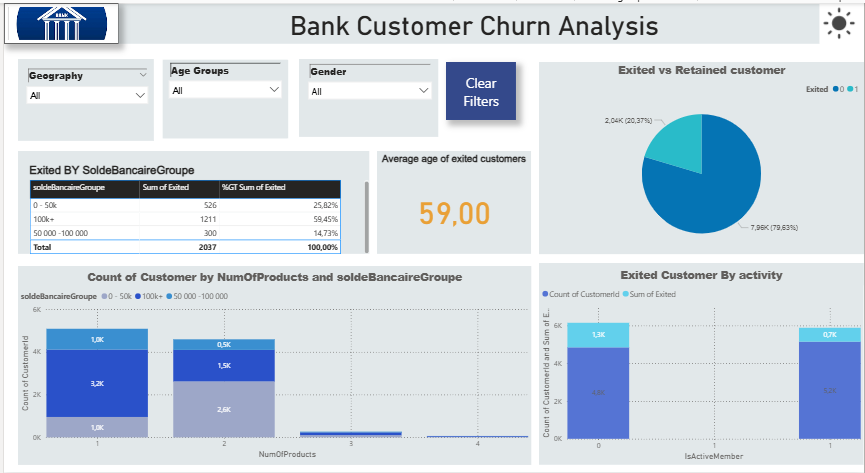

The page's visual inventory and layout, read from the dashboard file:
{"tool":"powerbi","page":{"name":"Page 1","canvas":[1513,825],"ordinal":0},"visuals":[{"type":"slicer","fields":{"Values":["Gender.Gender"]},"box":[519,98.5,244.5,137.2],"z":0},{"type":"slicer","fields":{"Values":["Geography.Geography"]},"box":[24.6,98.5,239.3,144.3],"z":1000},{"type":"slicer","fields":{"Values":["Dim_Age.TrancheAge"]},"box":[278,98.5,223.4,140.7],"z":2000},{"type":"pieChart","title":"Exited vs Retained customer","fields":{"Category":["Client.Exited"],"Y":["CountNonNull(Client.CustomerId)"]},"box":[941.2,103.8,571.8,337.8],"z":3000},{"type":"columnChart","title":"Exited Customer By activity","fields":{"Category":["Client.IsActiveMember"],"Y":["CountNonNull(Client.CustomerId)","Sum(Client.Exited)"]},"box":[942,457.2,571,354.7],"z":4000},{"type":"tableEx","title":"Exited BY SoldeBancaireGroupe","fields":{"Values":["Fait_Client.soldeBancaireGroupe","Sum(Fait_Client.Exited)","Divide(Sum(Fait_Client.Exited), ScopedEval(Sum(Fait_Client.Exited), []))"]},"box":[24.6,260.4,617.5,181.2],"z":5000},{"type":"columnChart","title":"Count of Customer by NumOfProducts and soldeBancaireGroupe","fields":{"Category":["Client.NumOfProducts"],"Y":["CountNonNull(Client.CustomerId)"],"Series":["Client.soldeBancaireGroupe"]},"box":[24.4,462,902.9,349.8],"z":6000},{"type":"textbox","title":"Bank Customer Churn Analysis","box":[199.8,1.6,1234.3,69.8],"z":7000},{"type":"image","box":[0,0,200.6,72.1],"z":8000},{"type":"card","title":"Average age of exited customers","fields":{"Values":["Fait_Client.MoyenneAgeExited"]},"box":[656.2,260.4,270.9,181.2],"z":10000},{"type":"actionButton","box":[777.6,103.8,123.2,102],"z":11000},{"type":"actionButton","title":"Light mode","box":[1434,0,79.6,71.5],"z":12000}]}

Visuals, with their boxes in screenshot pixels (x1, y1, x2, y2), scaled from the page's 1513x825 canvas onto the 865x473 screenshot:
slicer - Gender.Gender: BBox(297, 56, 437, 135)
slicer - Geography.Geography: BBox(14, 56, 151, 139)
slicer - Dim_Age.TrancheAge: BBox(159, 56, 287, 137)
"Exited vs Retained customer" pieChart: BBox(538, 60, 864, 253)
"Exited Customer By activity" columnChart: BBox(539, 262, 864, 465)
"Exited BY SoldeBancaireGroupe" tableEx: BBox(14, 149, 367, 253)
"Count of Customer by NumOfProducts and soldeBancaireGroupe" columnChart: BBox(14, 265, 530, 465)
"Bank Customer Churn Analysis" textbox: BBox(114, 1, 820, 41)
image: BBox(0, 0, 115, 41)
"Average age of exited customers" card: BBox(375, 149, 530, 253)
actionButton: BBox(445, 60, 515, 118)
"Light mode" actionButton: BBox(820, 0, 864, 41)
